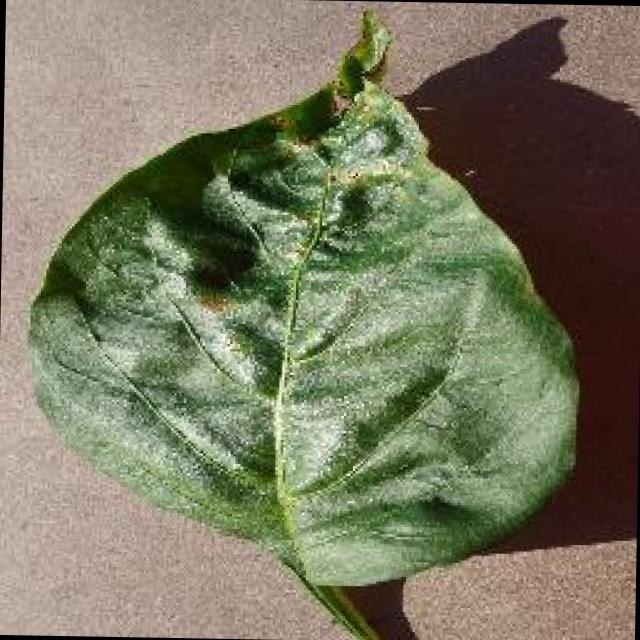Chilli_Bacterial_Spot: (18, 0, 591, 597), (328, 2, 396, 101), (176, 274, 268, 325), (324, 160, 366, 191)
